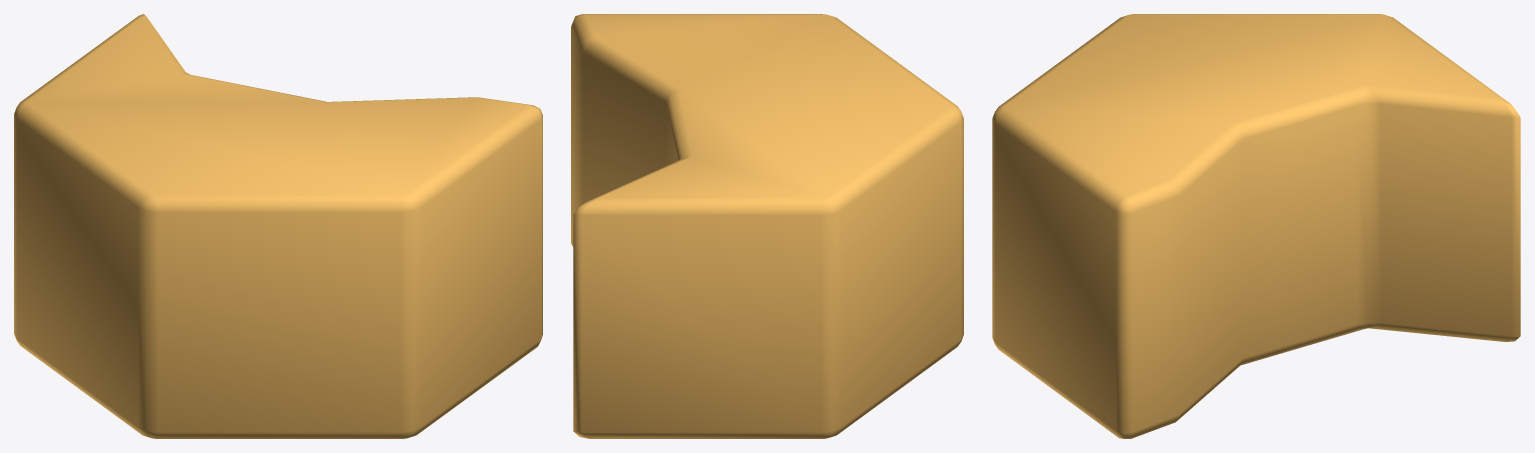
File: sand_border1.glb
The picture shows the model from 3 angles, left to right: view 1: azimuth 30°, elevation 25°; view 2: azimuth 150°, elevation 25°; view 3: azimuth 270°, elevation 25°; orthographic projection.
Visible parts, largest first — view 1: sand_border1; view 2: sand_border1; view 3: sand_border1.
Boxes of the visible parts, x1=… form: sand_border1: x1=14, y1=14, x2=542, y2=438; sand_border1: x1=571, y1=14, x2=963, y2=438; sand_border1: x1=992, y1=14, x2=1520, y2=438.
Size of the model in its own units: 6.84 by 4 by 7.89.
